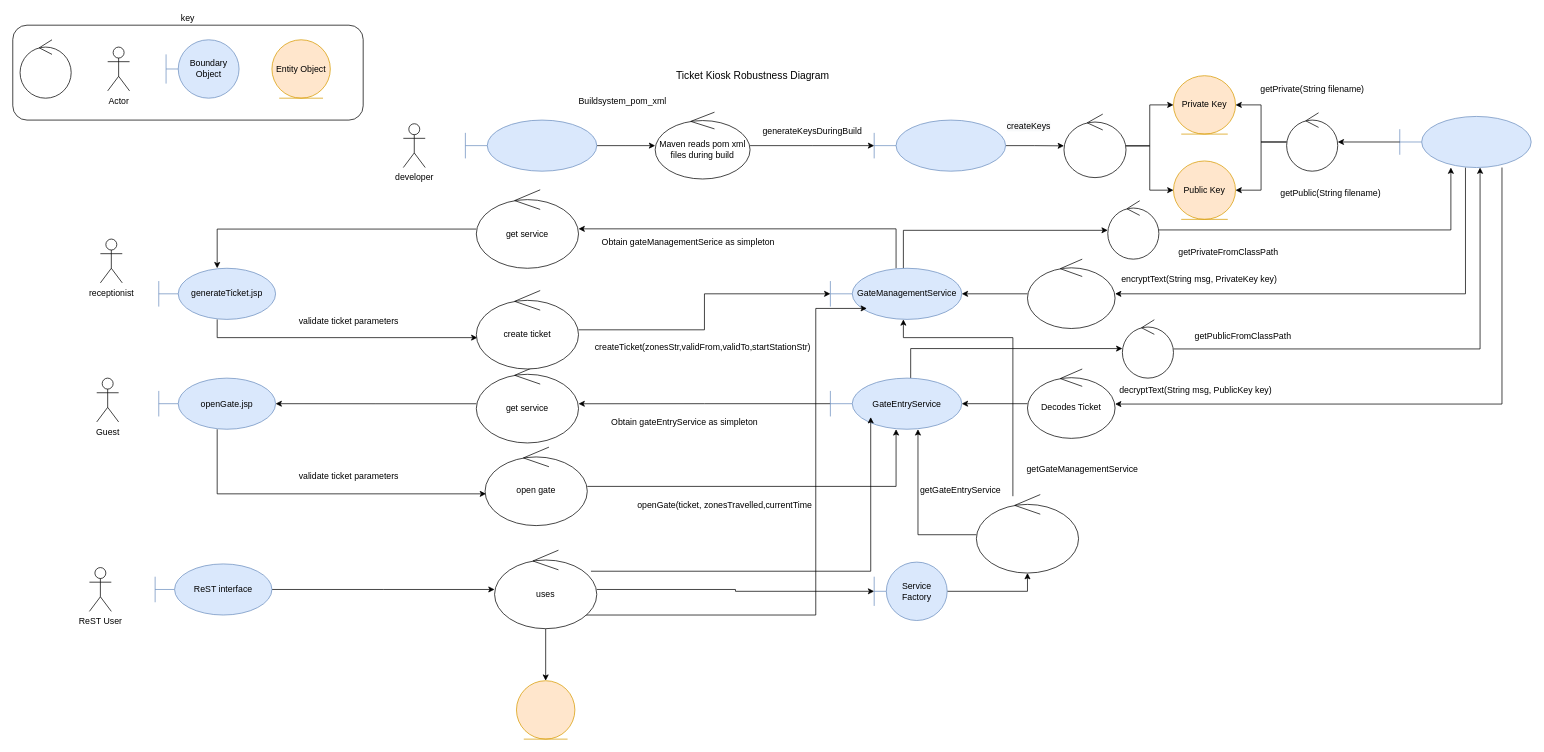
Image size: 1544x752. Some labels were removed from this diagram. Each missing label, with the centre of its shape:
"AsymmetricCryptography" belongs at (1465,142).
"Control Object" belongs at (45,68).
"Creates" belongs at (1027,533).
"Encodes Ticket" belongs at (1071,293).
"GenerateKeys" belongs at (939,145).
"generates Public and Private Keys" belongs at (1094,145).
"Get Private Key" belongs at (1133,229).
"Get Public Key" belongs at (1147,348).
"maven Build" belongs at (531,145).
"Obtains Keys" belongs at (1312,141).
"Reply Object" belongs at (545,709).
